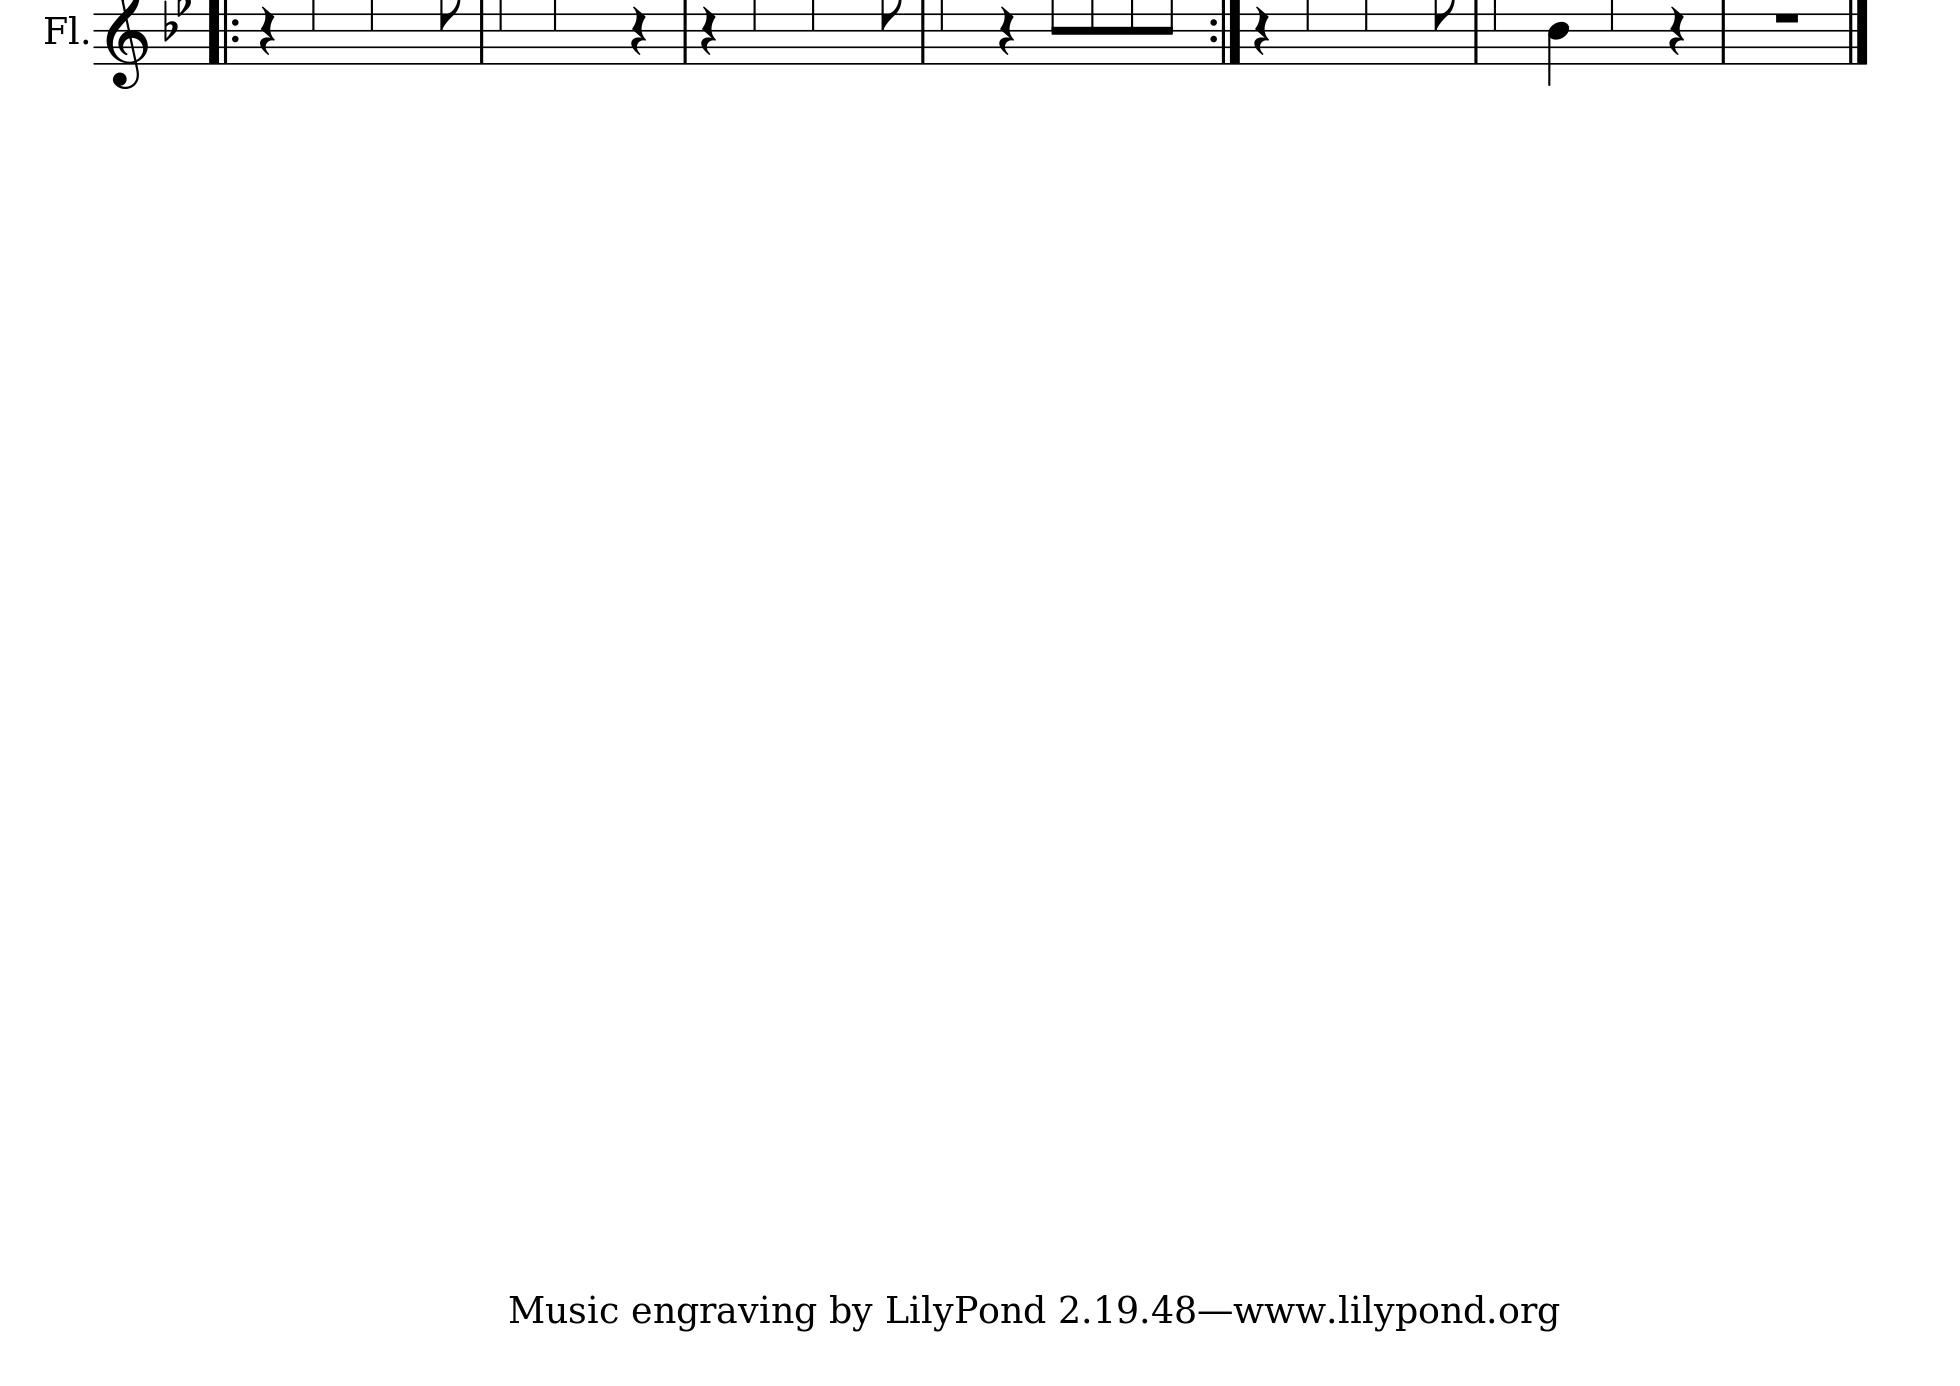Final_barline: (1845, 1, 1872, 64)
LeftRepeatSign: (205, 1, 241, 64)
RightRepeatSign: (1207, 1, 1245, 64)
Single_barline: (676, 1, 694, 63), (913, 1, 931, 61), (1716, 1, 1732, 63)
